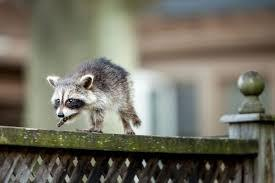raccoon: (35, 48, 156, 152)
